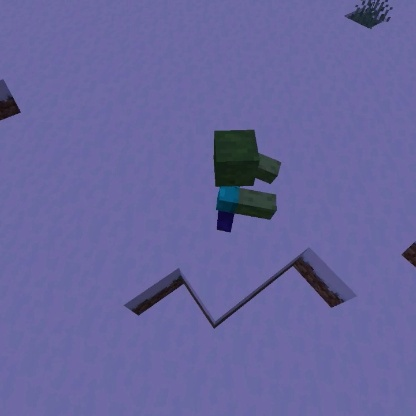zombie: (209, 126, 284, 235)
